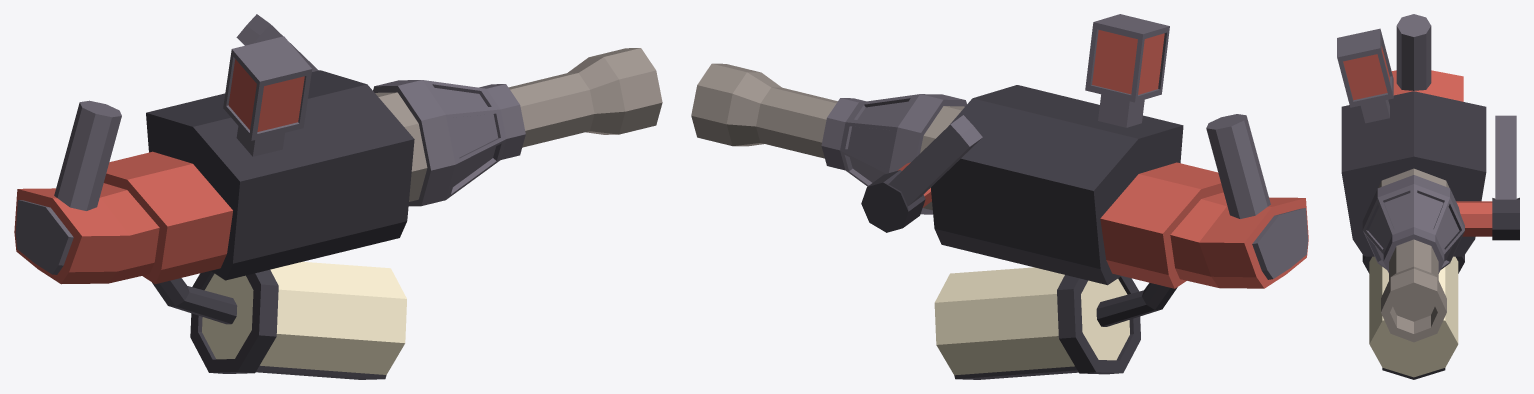
The model's file is Weapon04-Flame.fbx.
3 renders of one model, left to right at view 1: azimuth 30°, elevation 25°; view 2: azimuth 150°, elevation 25°; view 3: azimuth 270°, elevation 25°, orthographic. The views are drawn at different scales.
Visible parts, largest first — view 1: Cylinder.008; view 2: Cylinder.008; view 3: Cylinder.008.
Boxes of the visible parts, x1,y1,x2,y2 form: Cylinder.008: (14,14,662,379); Cylinder.008: (691,14,1308,379); Cylinder.008: (1337,14,1519,379).
Size of the model in its own units: 142 by 85.71 by 48.13.
